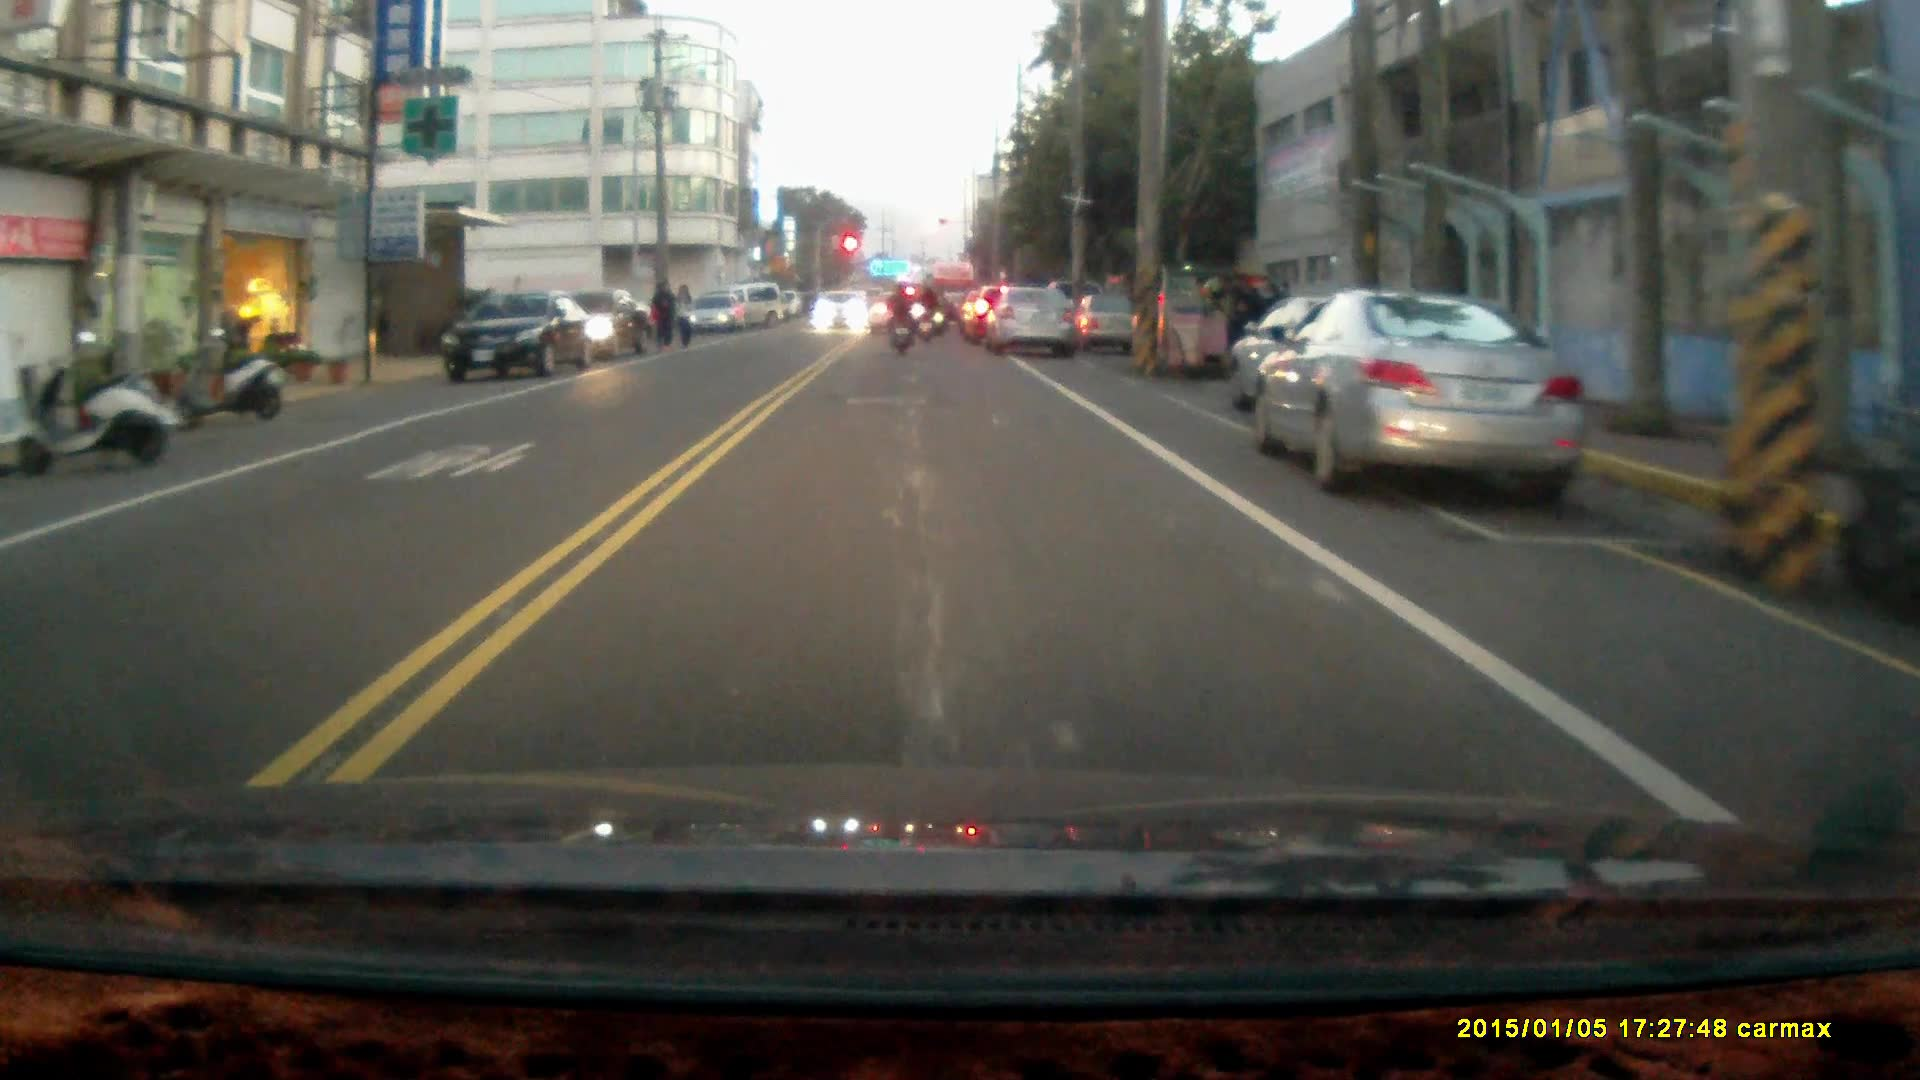pedestrian: (648, 275, 676, 352), (672, 279, 693, 352)
rider: (883, 281, 914, 358), (913, 279, 940, 344)
vehicle: (1254, 292, 1591, 510), (445, 288, 599, 385), (1118, 270, 1247, 381), (986, 286, 1083, 360), (811, 292, 867, 338)
